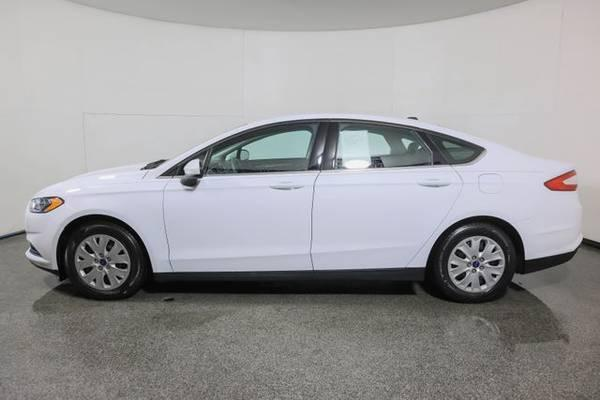Front_Bumper: (26, 211, 65, 270)
Front_Fender: (56, 180, 172, 274)
Front_Left_Door: (162, 171, 319, 275), (422, 128, 578, 219)
Front_Left_Window: (168, 118, 330, 179)
Hood: (35, 161, 162, 198)
Left_Headlight: (27, 195, 65, 212)
Left_Taillight: (543, 170, 578, 194)
Rear_Bumper: (511, 194, 583, 270)
Rear_Left_Door: (311, 166, 462, 272)
Rear_Left_Window: (322, 121, 454, 176)
Wheel: (437, 222, 518, 305), (64, 223, 145, 300)
